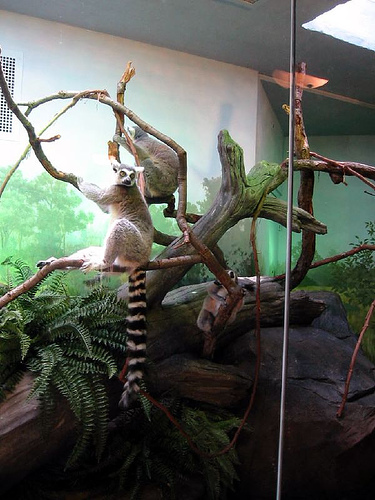cat: (67, 158, 171, 412)
